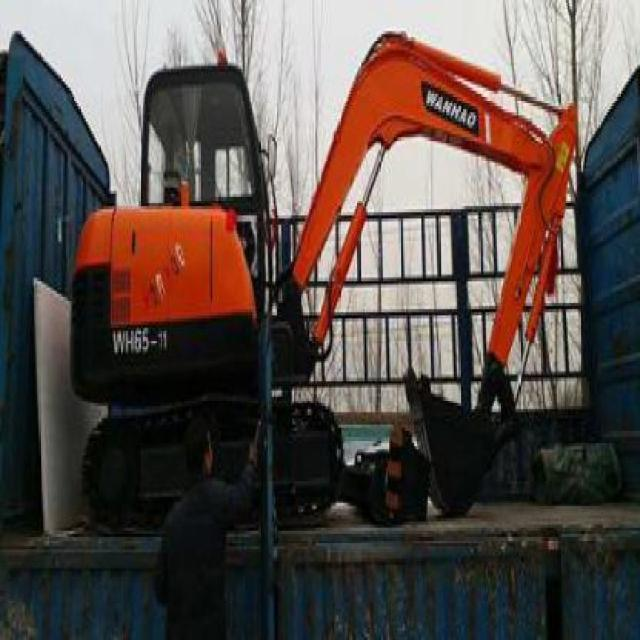excavator: (67, 28, 576, 524)
